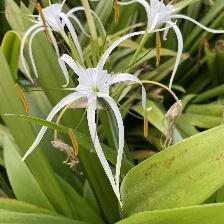spider lily: (22, 27, 188, 213)
